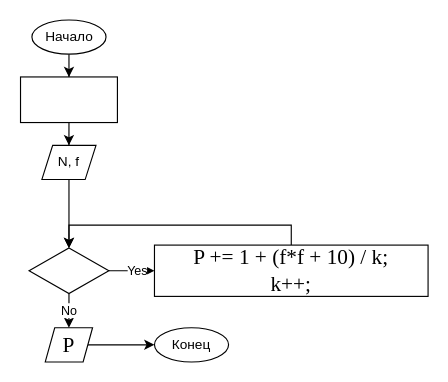
Some shapes in this 448 by 382 pixel diagram are drawn without their labels. The shapes that lost their labels are listed below. From the top down, each one's centre as x and y in pixels, then its label:
At (x=68, y=99): "int N, k = 1; double f, P = 0;".
At (x=68, y=270): "k <= N".
